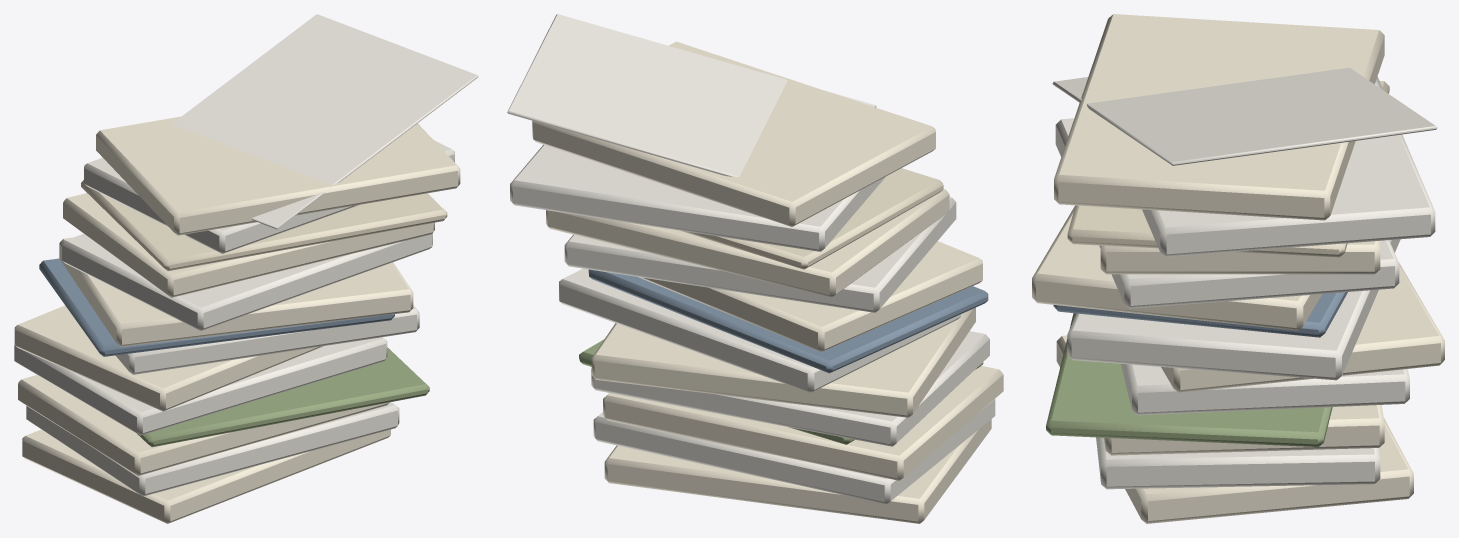
Rendered from paper_stack_teetering.glb.
3 views of the same model, side by side, from view 1: azimuth 30°, elevation 25°; view 2: azimuth 150°, elevation 25°; view 3: azimuth 270°, elevation 25° (orthographic). The views are drawn at different scales.
Visible parts, largest first — view 1: paper, sheet, cream, book_c, book_a; view 2: paper, sheet, book_a, cream, book_c; view 3: sheet, paper, book_c, cream, book_a.
Part boxes in pixels (x1,y1,x2,y2): paper: (14, 116, 460, 523); sheet: (14, 14, 478, 496); cream: (81, 180, 447, 271); book_c: (137, 347, 429, 447); book_a: (39, 258, 394, 356); paper: (532, 41, 1003, 523); sheet: (507, 14, 995, 504); book_a: (588, 269, 988, 373); cream: (681, 168, 943, 269); book_c: (579, 339, 983, 444); sheet: (1052, 67, 1437, 489); paper: (1032, 14, 1444, 523); book_c: (1046, 313, 1332, 446); cream: (1067, 81, 1389, 257); book_a: (1053, 292, 1347, 337).
Bounding box in the file's own units: 0.4318 × 0.3434 × 0.3027.
